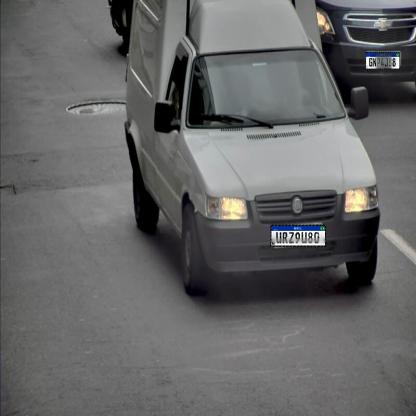PlacaM: (270, 224, 326, 247), (365, 52, 400, 69)
